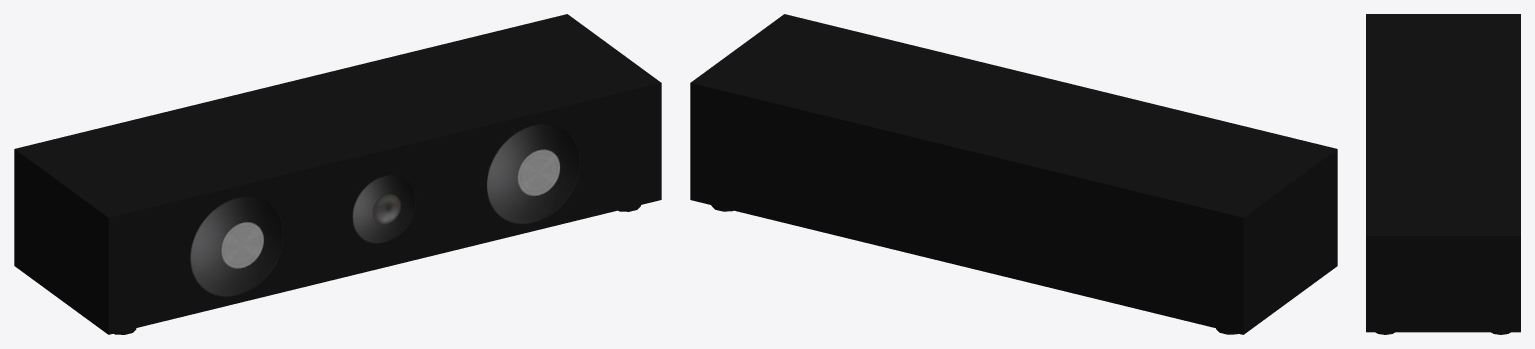
File: sound2b.FBX
The picture shows the model from 3 angles, left to right: view 1: azimuth 30°, elevation 25°; view 2: azimuth 150°, elevation 25°; view 3: azimuth 270°, elevation 25°; orthographic projection. The views are drawn at different scales.
Visible parts, largest first — view 1: sound2b; view 2: sound2b; view 3: sound2b.
Boxes of the visible parts, box(x1,y1,x2,y2) form: sound2b: box(14, 14, 661, 334); sound2b: box(690, 14, 1337, 334); sound2b: box(1366, 14, 1520, 334).
Bounding box in the file's own units: 0.3395 × 0.1 × 0.0737.
